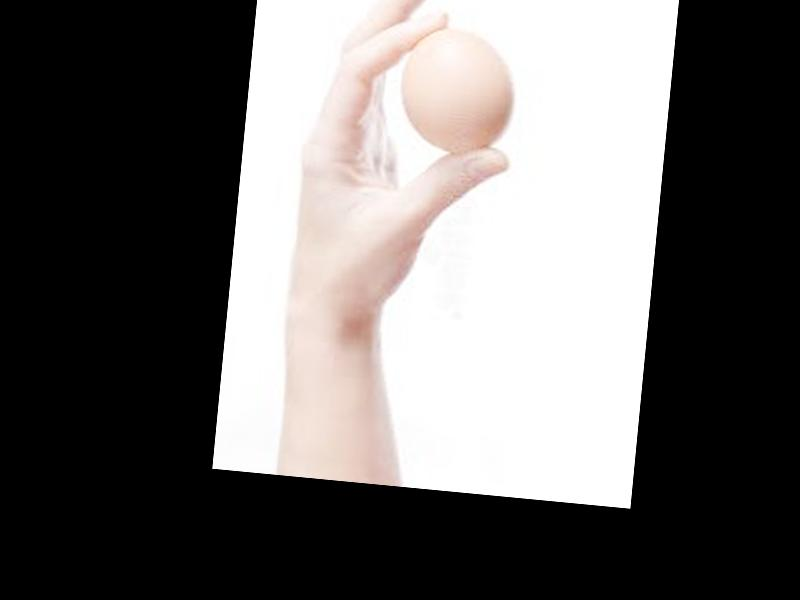Eggs: (397, 25, 519, 159)
